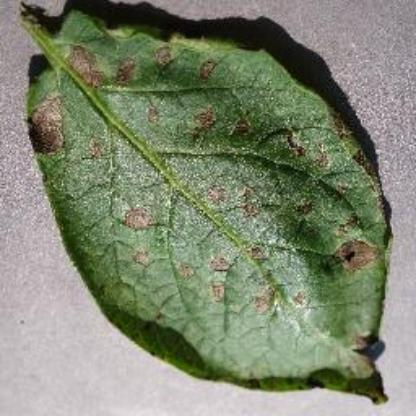Early-Blight: (8, 1, 404, 404)
